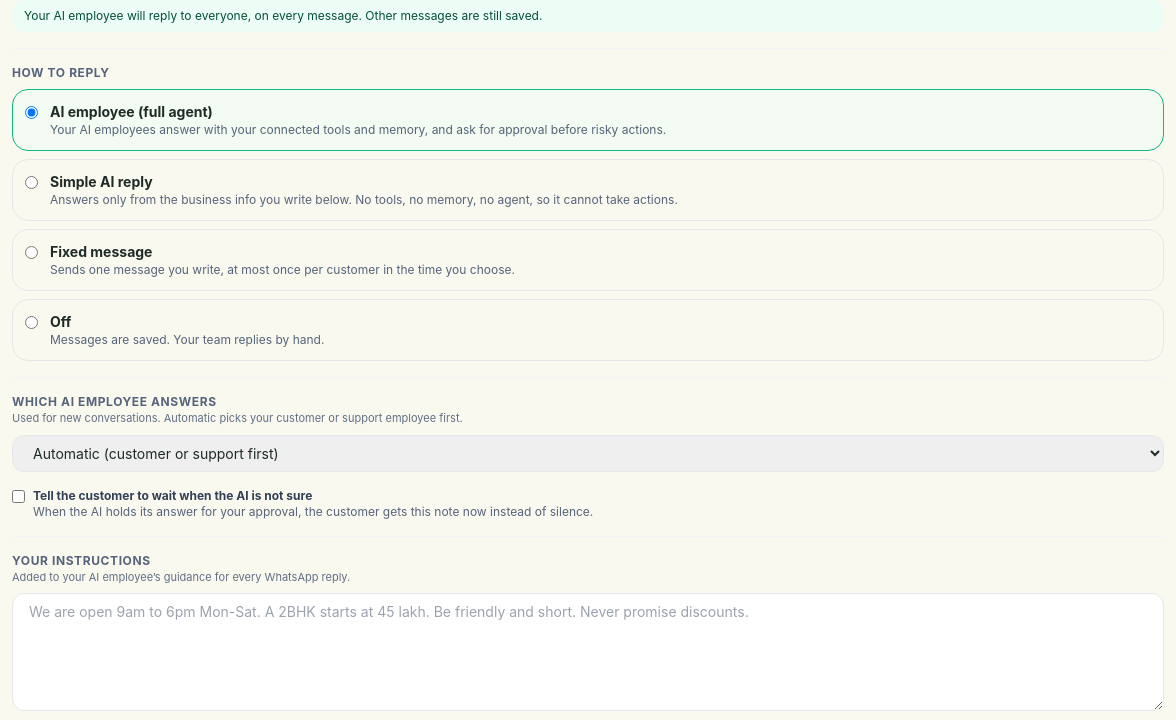
Test: WhatsAppAutoReplyForm › instructions box appears for the AI modes and is sent; off hides who/when
This screenshot has width=1176, height=720.
Check: the message with test id "auto-reply-summary" is shown, box [12,0,1164,32]
Replace the text in the text box named "Instructions" with "Never promise discounts." at {"x": 588, "y": 652}, box [12,593,1164,711]
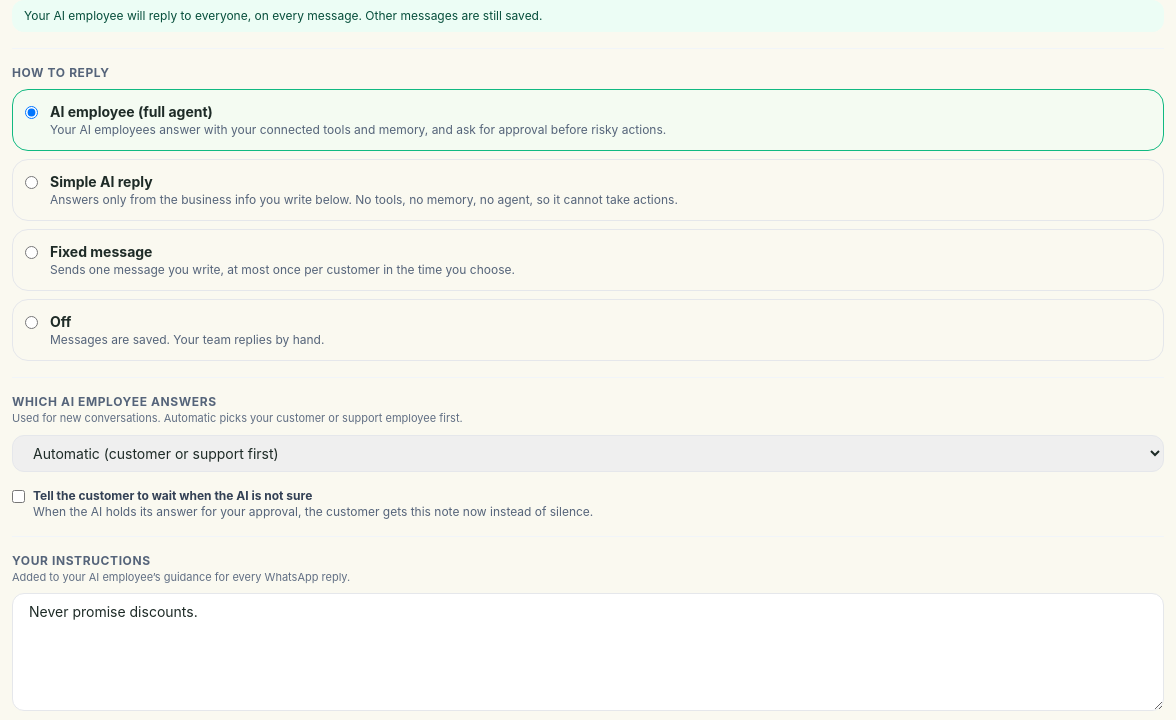
Click the radio button labelled "Simple AI reply" at {"x": 32, "y": 182}, box [25,176,38,189]
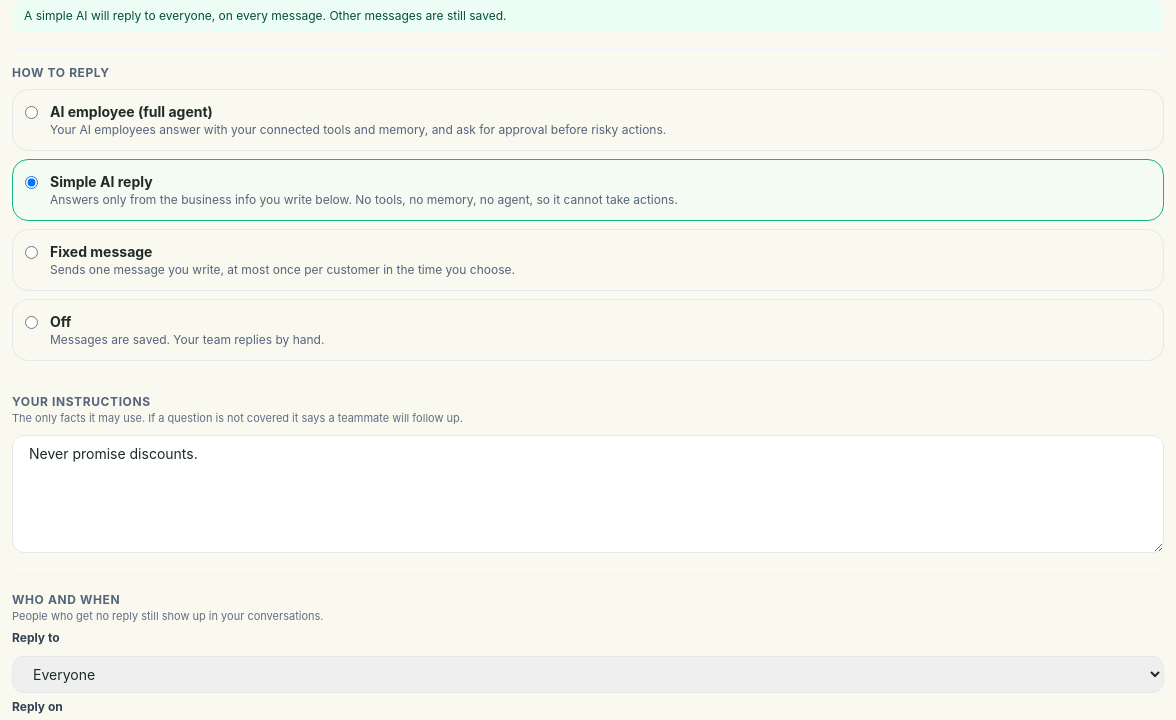
Click the radio button labelled "Off Messages are saved. Your team replies by hand." at {"x": 32, "y": 322}, box [25,316,38,329]
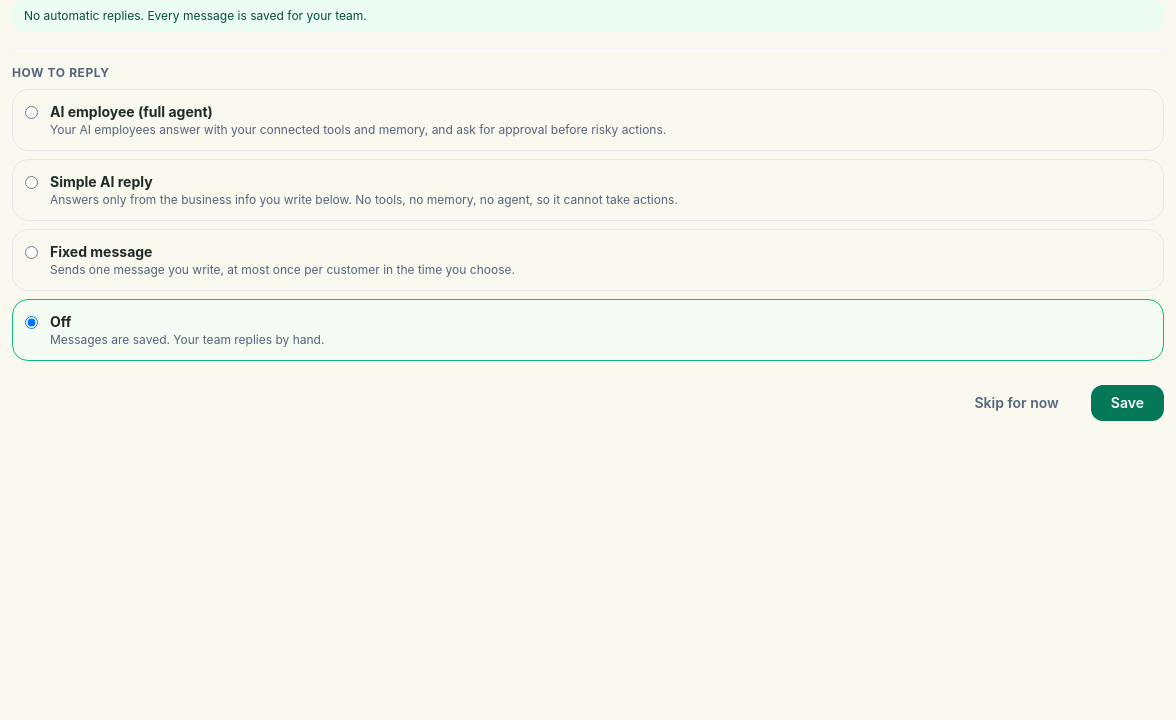
Check: the message labelled "reply to" is gone
Check: the heading labelled "instructions" is gone
Check: the message with test id "auto-reply-summary" shows "No automatic replies", box [24,8,367,23]
